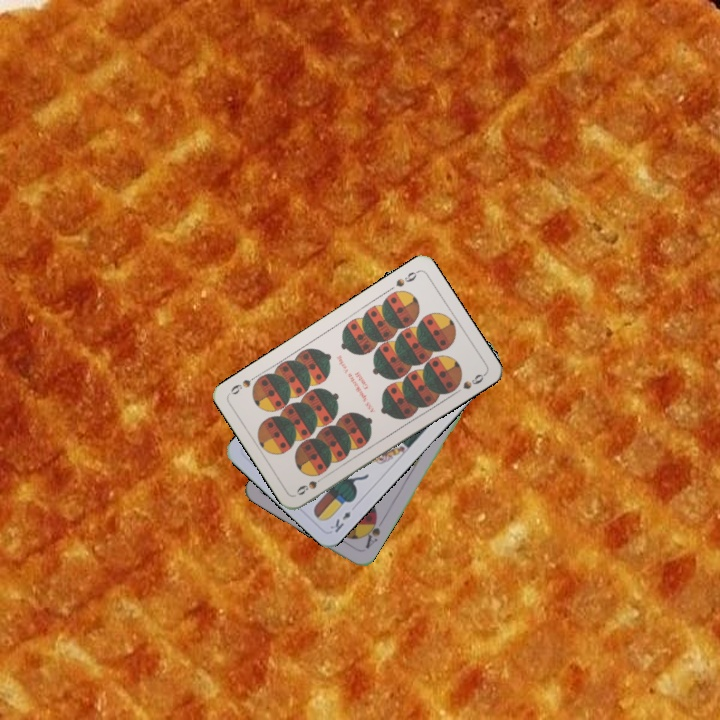EK: (326, 507, 354, 535)
S9: (292, 471, 329, 498), (392, 267, 421, 290)
SA: (360, 513, 383, 551)
